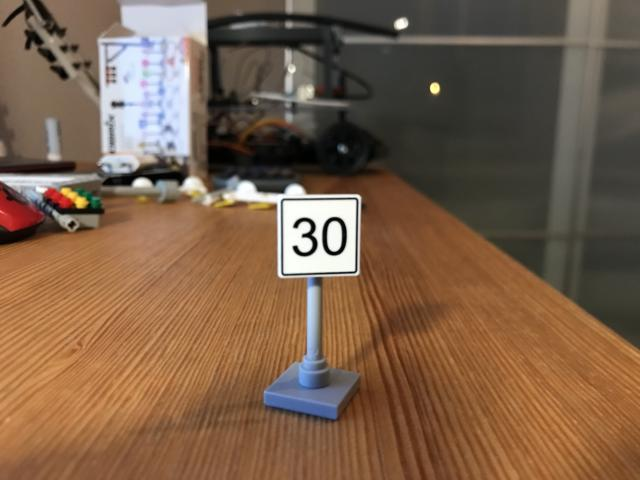tempolimit 30: (275, 192, 364, 278)
